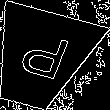P_S: (10, 29, 71, 89)
